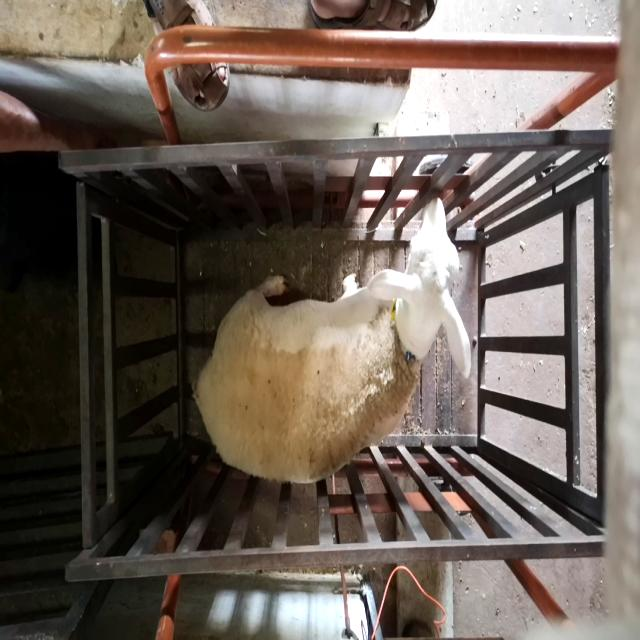sheep: (190, 195, 472, 485)
